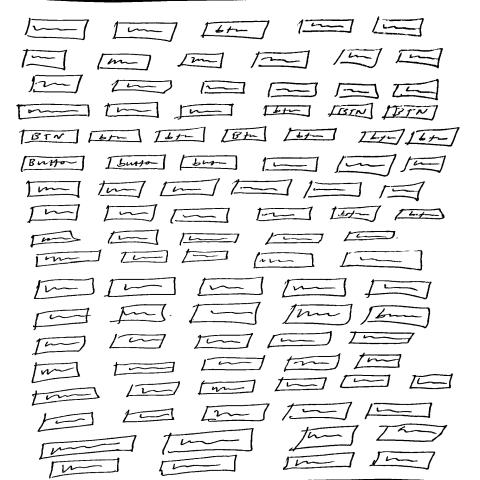Button: (405, 128, 462, 149), (20, 156, 87, 173), (153, 126, 207, 145), (20, 129, 82, 145), (107, 155, 168, 171), (382, 105, 440, 121), (329, 206, 383, 223), (179, 155, 240, 170), (222, 126, 269, 145), (89, 129, 144, 145), (358, 129, 408, 146), (328, 103, 377, 120), (284, 128, 339, 142), (394, 209, 446, 222), (263, 105, 312, 117)
